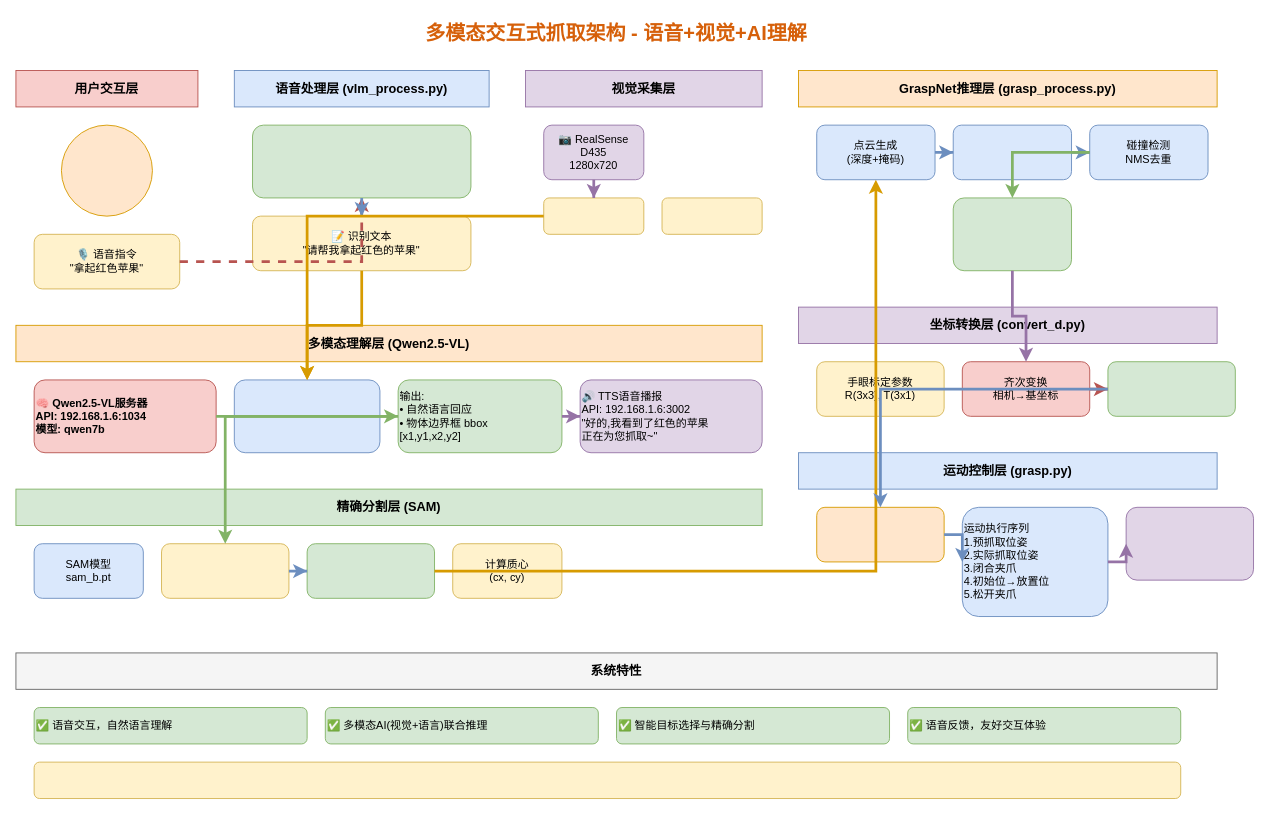
Image size: 1269x814. Some labels were removed from this diagram. The box of each missing label's shape, as (x1, y1, x2, y2) in pixels:
ASR语音识别 API: 192.168.1.6:3003 输入: mp3音频 输出: 文本: (252, 124, 471, 198)
GraspNet预测 位姿+宽度: (952, 124, 1072, 180)
彩色图像: (543, 197, 644, 234)
最优抓取 translation rotation_matrix width: (952, 197, 1072, 271)
最终抓取位姿 [x,y,z,rx,ry,rz]: (1107, 361, 1235, 416)
机械臂控制 Movej_P_Cmd() Set_Gripper_Pick(): (1125, 506, 1254, 580)
深度图像: (661, 197, 762, 234)
输入: bbox提示 或点击坐标: (161, 543, 289, 598)
输入: • 彩色图像(base64) • 文本指令: (233, 379, 380, 453)
输出: 精确掩码 (二值图像): (306, 543, 435, 598)
预抓取计算 沿Z轴偏移0.08m: (816, 506, 944, 562)
🎯 适用场景: 复杂场景多物体抓取，人机协作: (33, 761, 1181, 799)
👤 用户: (61, 124, 152, 216)
